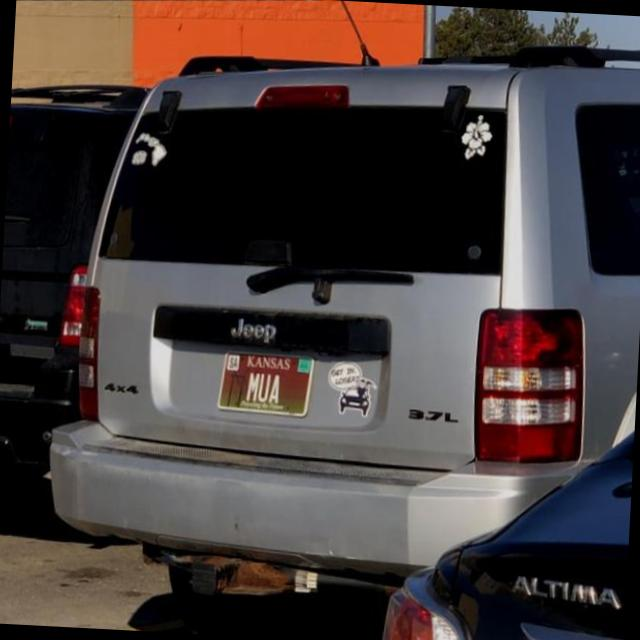LicensePlate: (216, 349, 315, 418)
